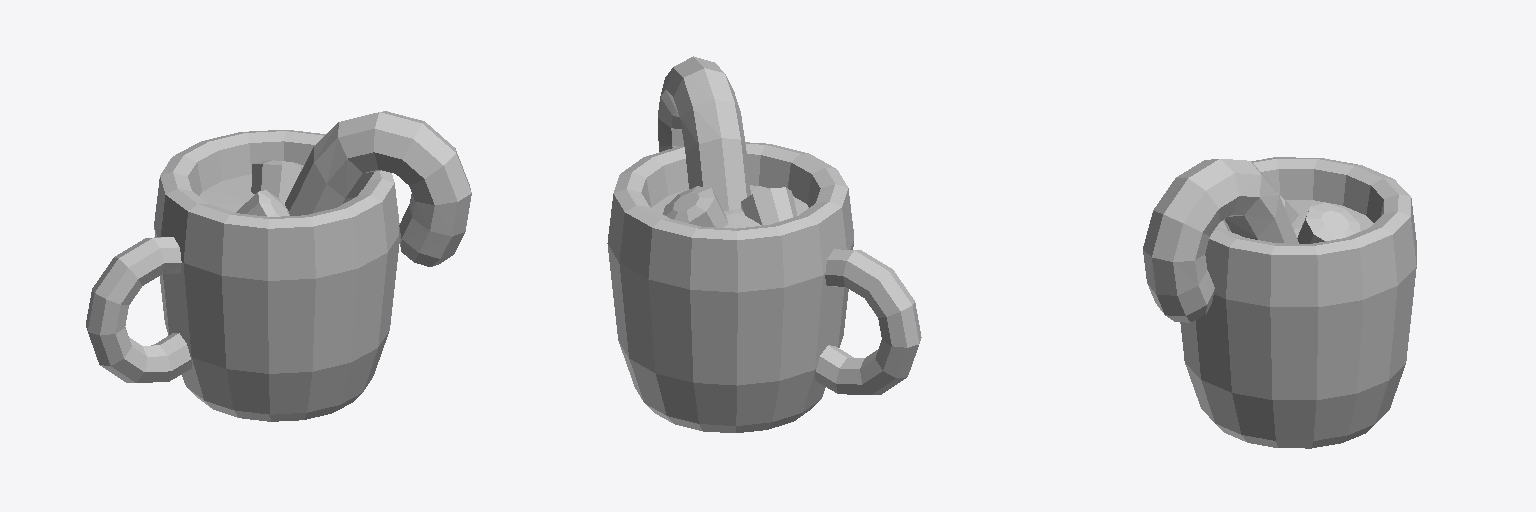
Rendered from hot_chocolate_decorated.obj.
3 views of the same model, side by side, from view 1: azimuth 30°, elevation 25°; view 2: azimuth 150°, elevation 25°; view 3: azimuth 270°, elevation 25° (orthographic).
Visible parts, largest first — view 1: hot_chocolate_decorated; view 2: hot_chocolate_decorated; view 3: hot_chocolate_decorated.
Boxes of the visible parts, x1,y1,x2,y2 form: hot_chocolate_decorated: [86, 111, 471, 421]; hot_chocolate_decorated: [607, 56, 921, 432]; hot_chocolate_decorated: [1143, 157, 1416, 448].
Size of the model in its own units: 0.6773 by 0.5789 by 0.5034.